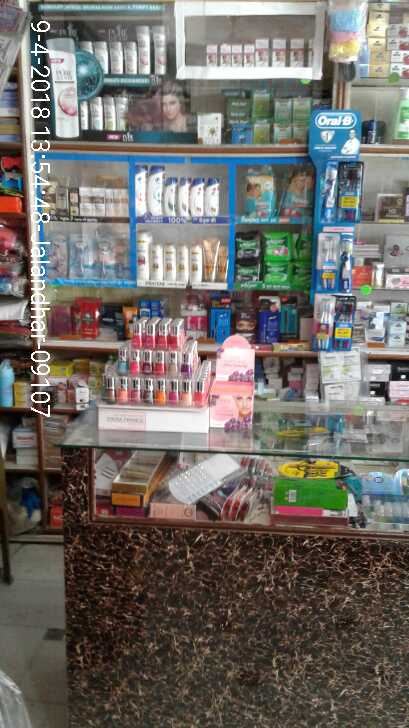venus: (71, 234, 95, 280), (45, 232, 68, 279), (99, 226, 114, 278)
